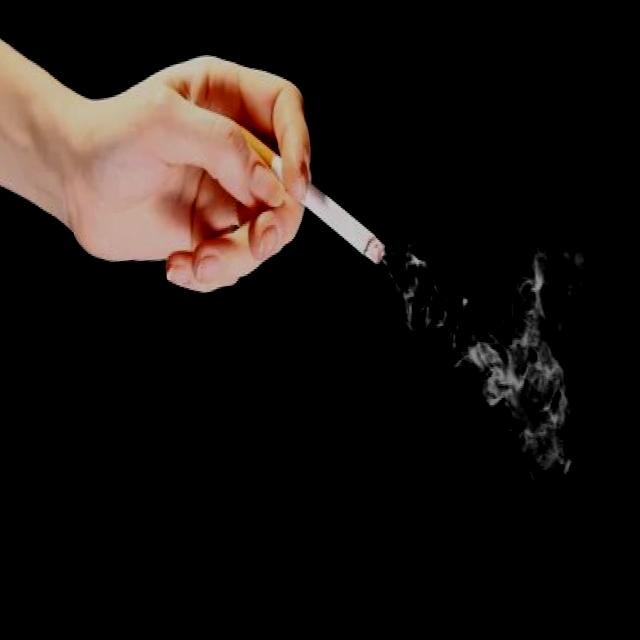cigarette: (232, 113, 390, 279)
